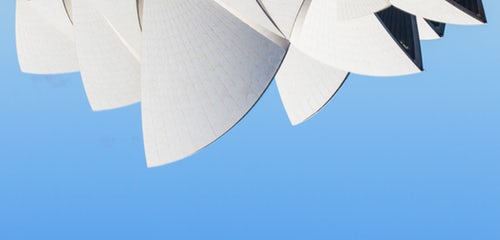opera house: (1, 1, 500, 178)
